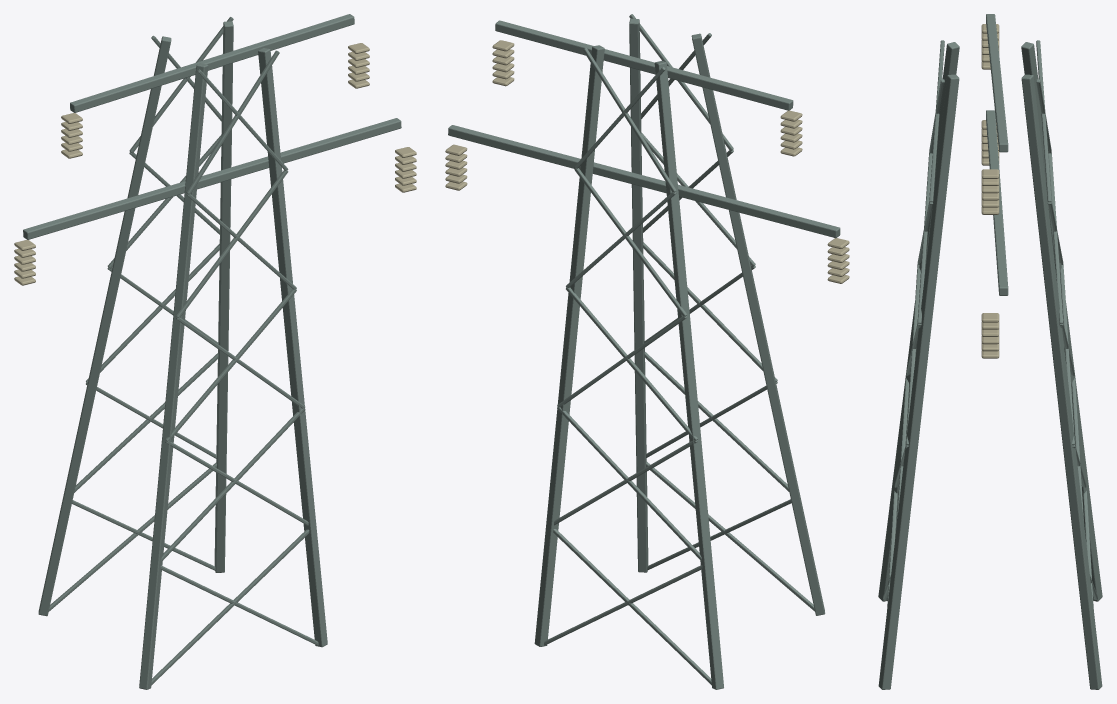
Rendered from ash-pylon.glb.
3 renders of one model, left to right at view 1: azimuth 30°, elevation 25°; view 2: azimuth 150°, elevation 25°; view 3: azimuth 270°, elevation 25°, orthographic. The views are drawn at different scales.
Parts seen in each view (by area): view 1: Pylon leg.004, Pylon leg.006, Pylon leg.005, Pylon leg.007, Bent crossarm.002, Bent crossarm.003, Diagonal lattice.020, Diagonal lattice.021, Diagonal lattice.025, Diagonal lattice.022, Diagonal lattice.023, Diagonal lattice.026 (+7 smaller); view 2: Pylon leg.005, Pylon leg.007, Pylon leg.004, Pylon leg.006, Bent crossarm.002, Bent crossarm.003, Diagonal lattice.025, Diagonal lattice.026, Diagonal lattice.020, Diagonal lattice.027, Diagonal lattice.028, Diagonal lattice.021 (+7 smaller); view 3: Pylon leg.006, Pylon leg.007, Pylon leg.005, Pylon leg.004, Bent crossarm.002, Bent crossarm.003, Diagonal lattice.034, Diagonal lattice.039, Diagonal lattice.033, Diagonal lattice.038, Diagonal lattice.032, Diagonal lattice.037 (+4 smaller).
Part boxes in pixels (x1,y1,x2,y2): Pylon leg.004: (139, 63, 208, 689); Pylon leg.006: (258, 48, 327, 647); Pylon leg.005: (38, 36, 171, 616); Pylon leg.007: (214, 21, 233, 572); Bent crossarm.002: (23, 118, 401, 239); Bent crossarm.003: (70, 14, 354, 112); Diagonal lattice.020: (151, 529, 309, 685); Diagonal lattice.021: (161, 408, 305, 561); Diagonal lattice.025: (48, 462, 216, 611); Diagonal lattice.022: (165, 289, 296, 441); Diagonal lattice.023: (176, 170, 288, 317); Diagonal lattice.026: (74, 353, 218, 492); Pylon leg.005: (654, 60, 723, 689); Pylon leg.007: (534, 45, 604, 646); Pylon leg.004: (691, 33, 825, 615); Pylon leg.006: (629, 18, 648, 572); Bent crossarm.002: (448, 125, 840, 238); Bent crossarm.003: (495, 20, 793, 110); Diagonal lattice.025: (553, 529, 711, 685); Diagonal lattice.026: (557, 407, 701, 561); Diagonal lattice.020: (646, 461, 814, 611); Diagonal lattice.027: (566, 287, 697, 440); Diagonal lattice.028: (574, 168, 687, 316); Diagonal lattice.021: (644, 352, 789, 491); Pylon leg.006: (878, 74, 959, 689); Pylon leg.007: (1021, 74, 1102, 689); Pylon leg.005: (1021, 42, 1102, 601); Pylon leg.004: (878, 42, 959, 601); Bent crossarm.002: (986, 110, 1008, 295); Bent crossarm.003: (986, 14, 1008, 152); Diagonal lattice.034: (929, 40, 944, 202); Diagonal lattice.039: (1036, 40, 1051, 202); Diagonal lattice.033: (917, 152, 932, 323); Diagonal lattice.038: (1048, 152, 1063, 323); Diagonal lattice.032: (906, 264, 920, 445); Diagonal lattice.037: (1060, 264, 1074, 445).
Size of the model in its own units: 7.17 by 10.03 by 3.39.
